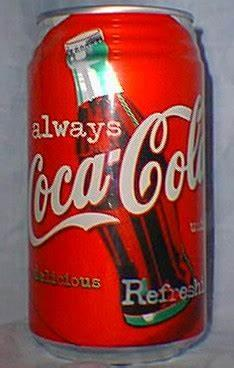metal: (29, 5, 206, 362)
